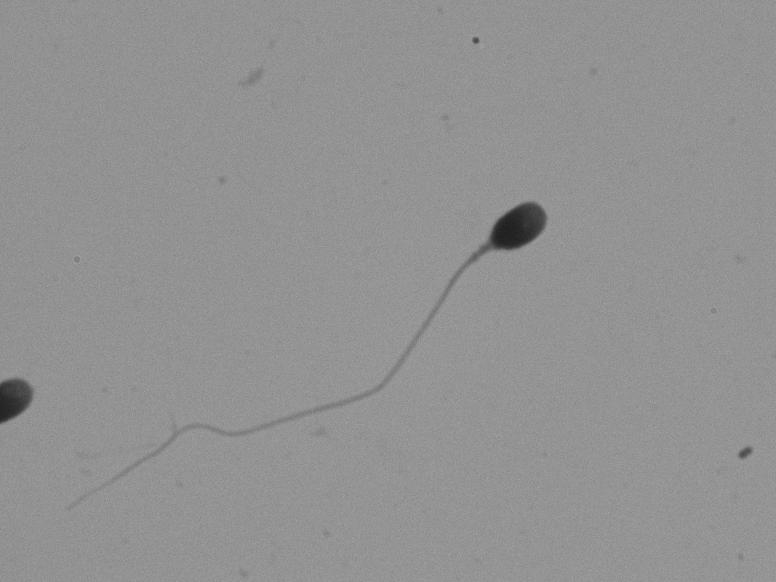Normal: (89, 157, 605, 491)
